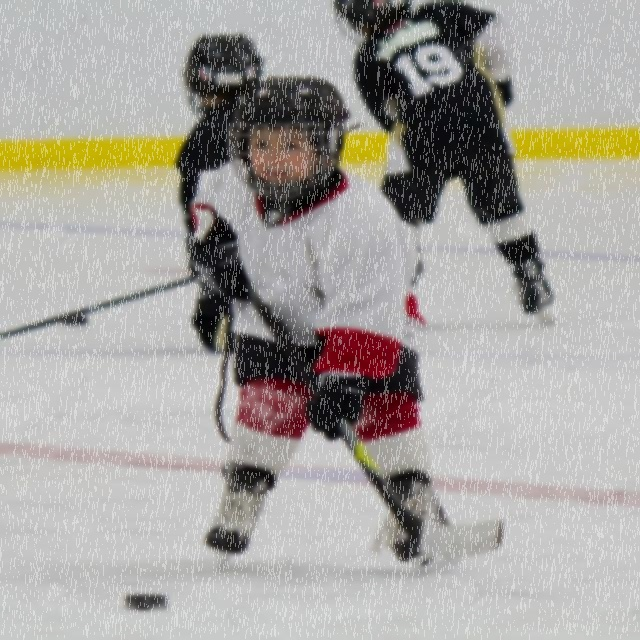pessoa: (187, 75, 466, 578), (332, 1, 560, 325), (173, 31, 270, 354)
